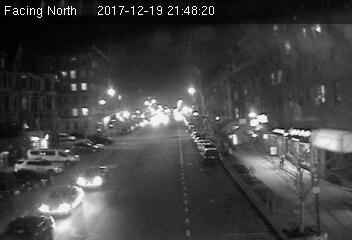car: (37, 185, 88, 215), (77, 166, 109, 188), (200, 148, 223, 164)
